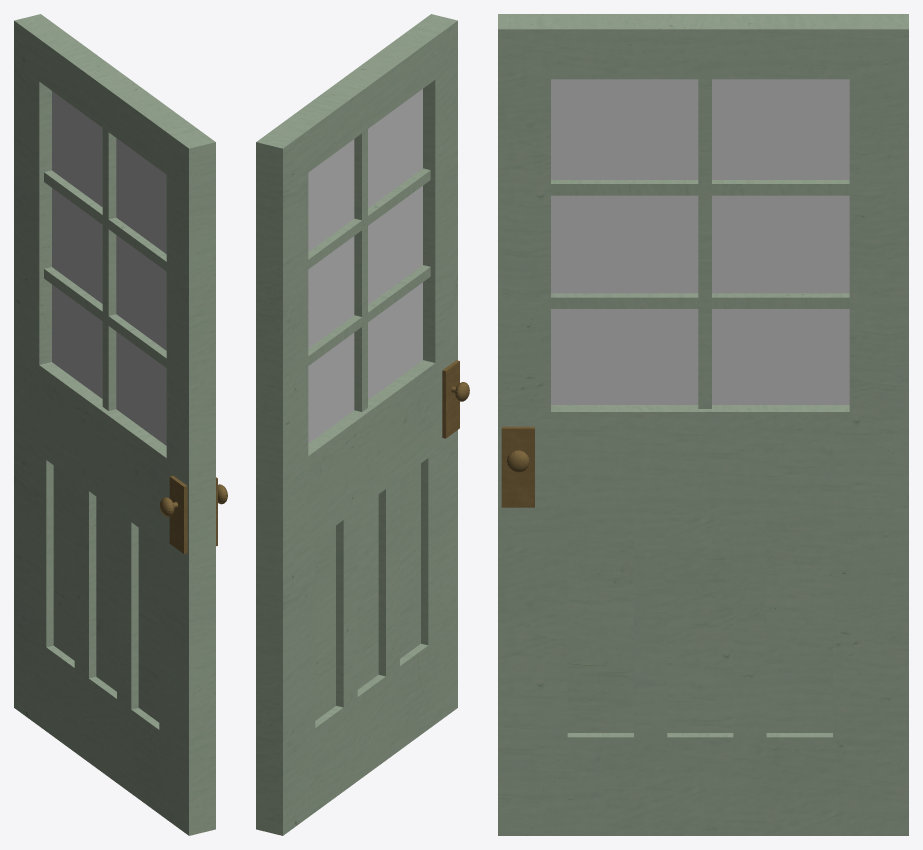
Rendered from SM_WD7_DOOR_1.fbx.
3 renders of one model, left to right at view 1: azimuth 30°, elevation 25°; view 2: azimuth 150°, elevation 25°; view 3: azimuth 270°, elevation 25°, orthographic. The views are drawn at different scales.
Parts seen in each view (by area): view 1: SM_WD7_DOOR_1; view 2: SM_WD7_DOOR_1; view 3: SM_WD7_DOOR_1.
Part boxes in pixels (bbox=[...]): SM_WD7_DOOR_1: bbox=[14, 14, 227, 835]; SM_WD7_DOOR_1: bbox=[256, 14, 469, 835]; SM_WD7_DOOR_1: bbox=[498, 14, 908, 835].
Size of the model in its own units: 20.92 by 98.58 by 214.
3 materials, 2 textured.
